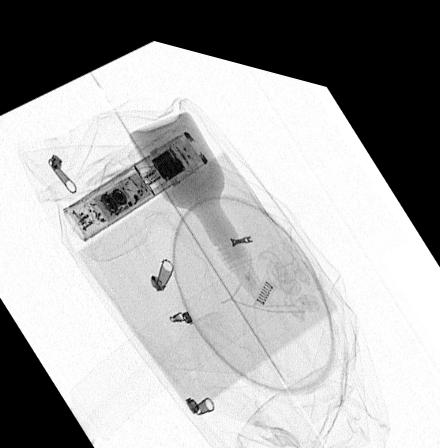Baton: (62, 119, 208, 238)
